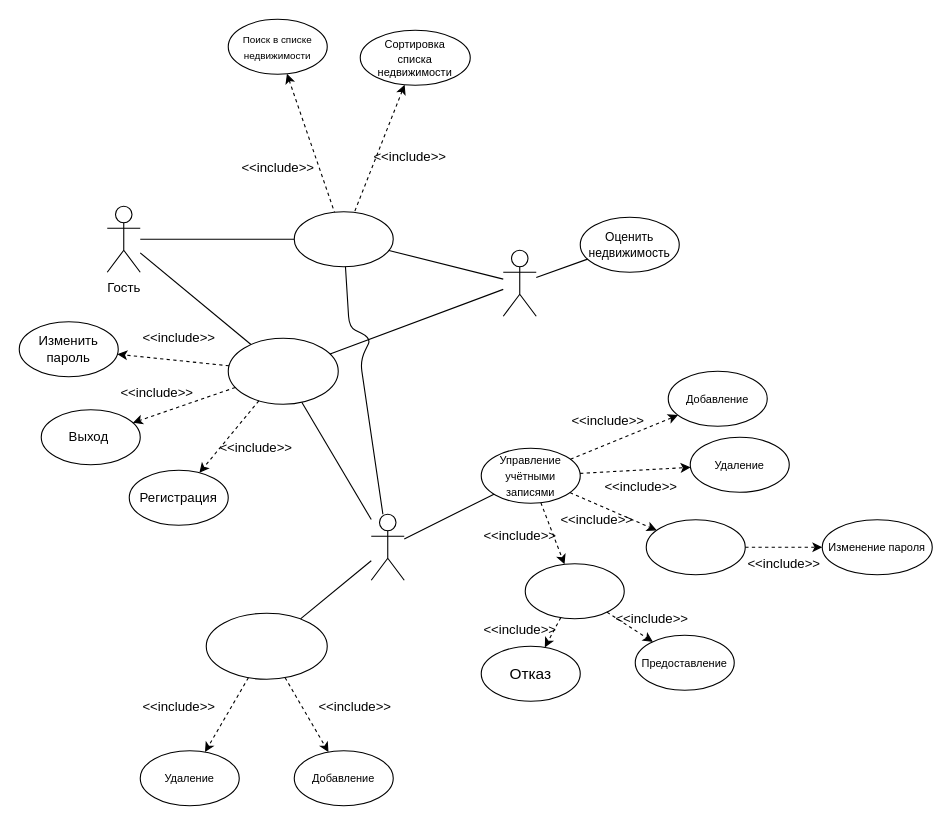
Some shapes in this 952 by 825 pixel diagram are drawn without their labels. Here are the shapes that lost their labels. From the top down, the box of each, then its label:
(293, 211, 393, 267): Просмотр списка недвижимости
(502, 249, 536, 316): Оценщик
(227, 337, 338, 404): Управление учётной записью
(370, 513, 404, 580): Администратор
(645, 519, 745, 575): Изменение
(524, 563, 624, 619): Управление доступом
(205, 612, 327, 679): Управление списком недвижимости
